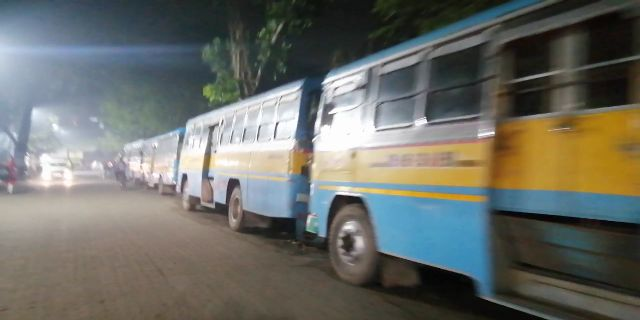Bus: (318, 9, 620, 289), (181, 76, 313, 222)
